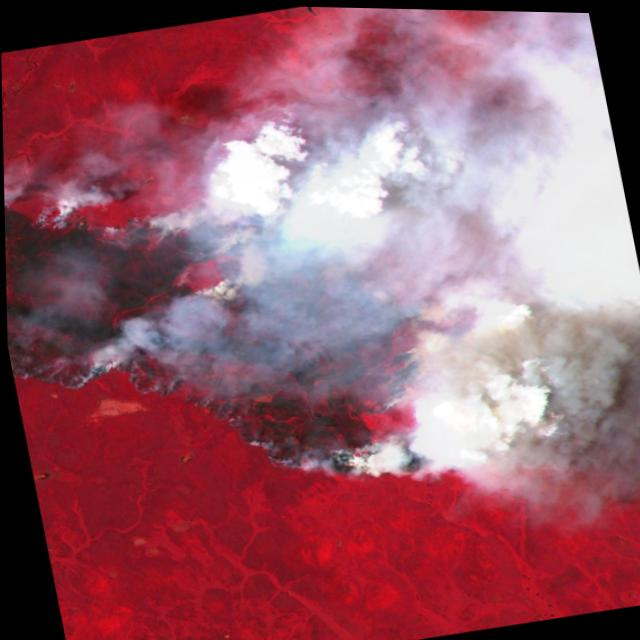fire: (2, 123, 472, 525)
